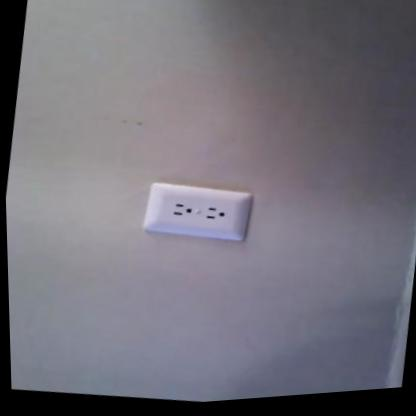OUTLET: (144, 175, 251, 247)
